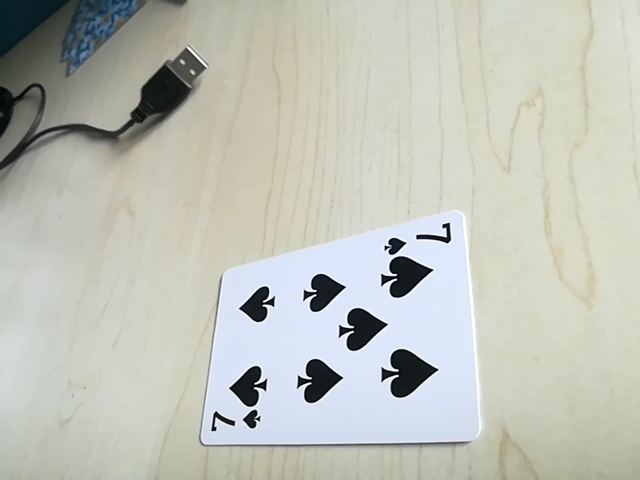ht 7: (382, 221, 456, 255), (203, 406, 260, 438)
